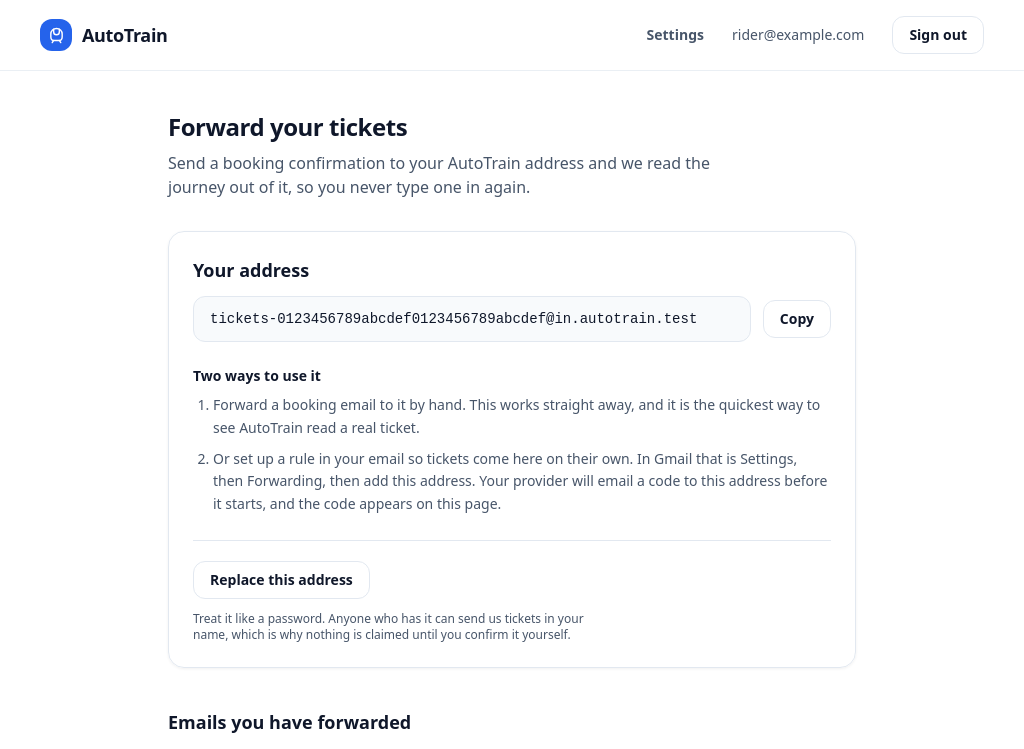
Forwarding settings › replaces the address only after confirming, then re-reads the page
Click the button "Replace this address".
click(281, 580)  # box [193,561,370,599]
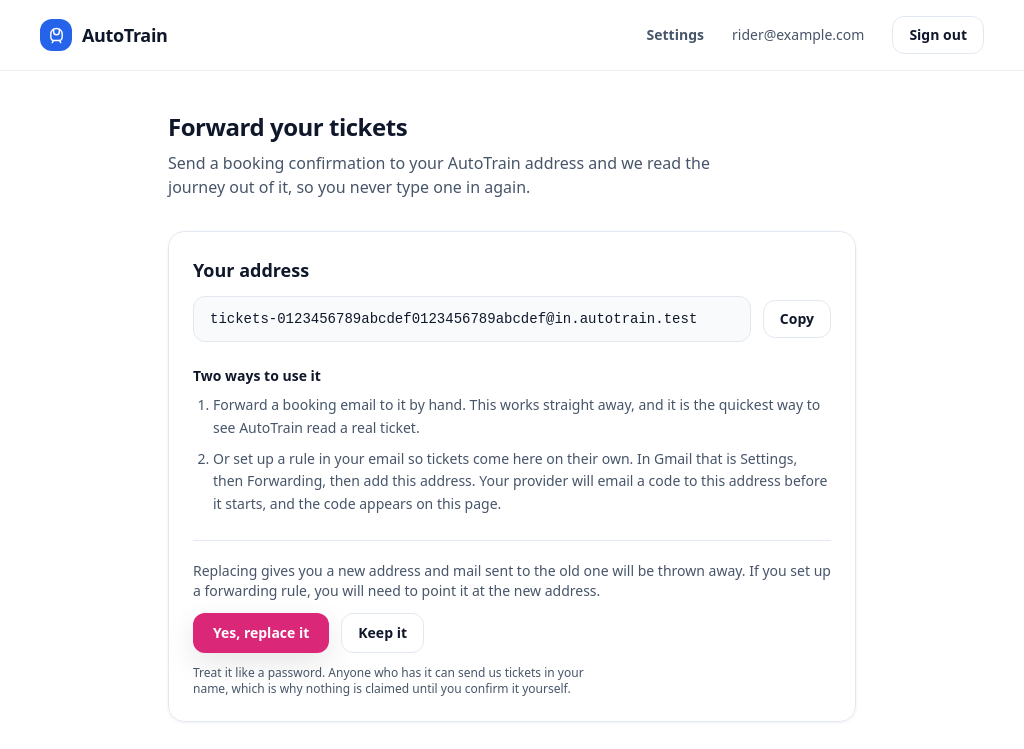
Expected: the text "tickets-0123456789abcdef0123456789abcdef@in.autotrain.test" is shown, [193,296,751,342]
Click the button "Yes, replace it".
click(261, 633)  # box [193,613,329,653]
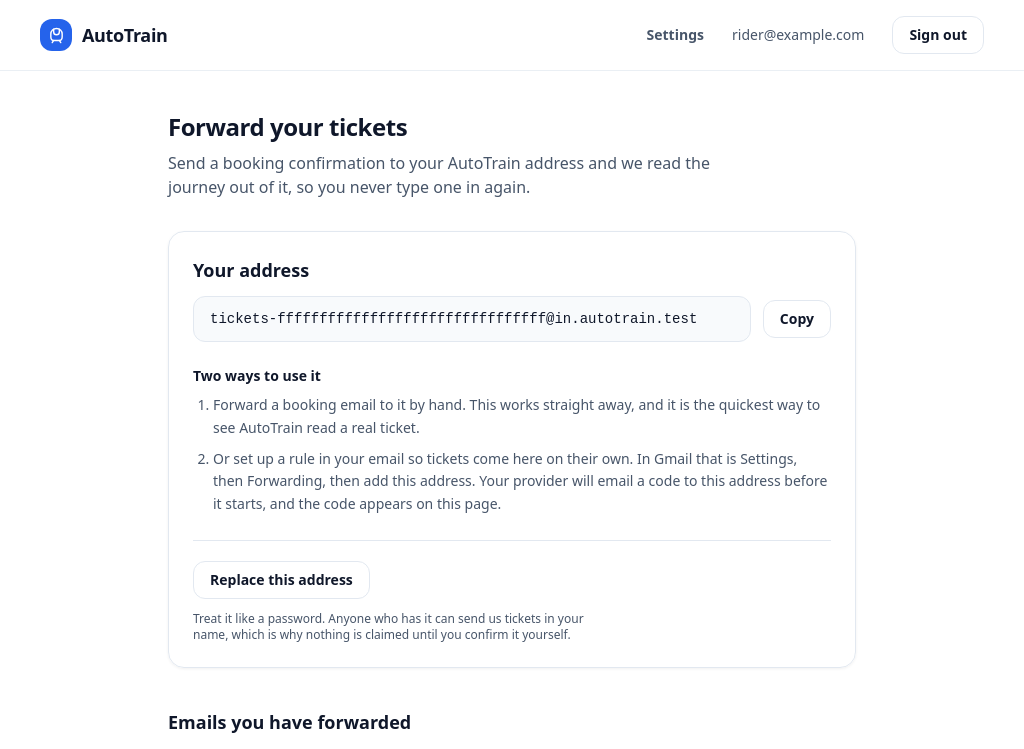
Expected: the text "tickets-ffffffffffffffffffffffffffffffff@in.autotrain.test" is shown, [193,296,751,342]
Expected: the text "tickets-0123456789abcdef0123456789abcdef@in.autotrain.test" is gone
